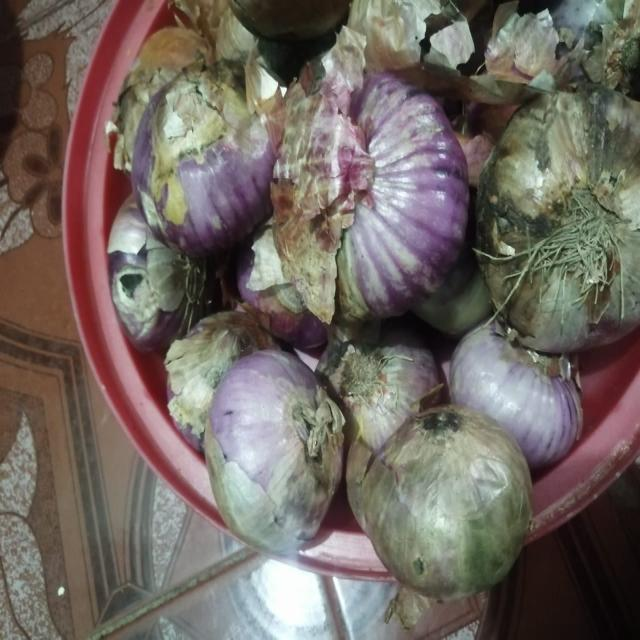rotten: (470, 121, 534, 312), (109, 267, 160, 329)
sprouting: (288, 396, 340, 498)
